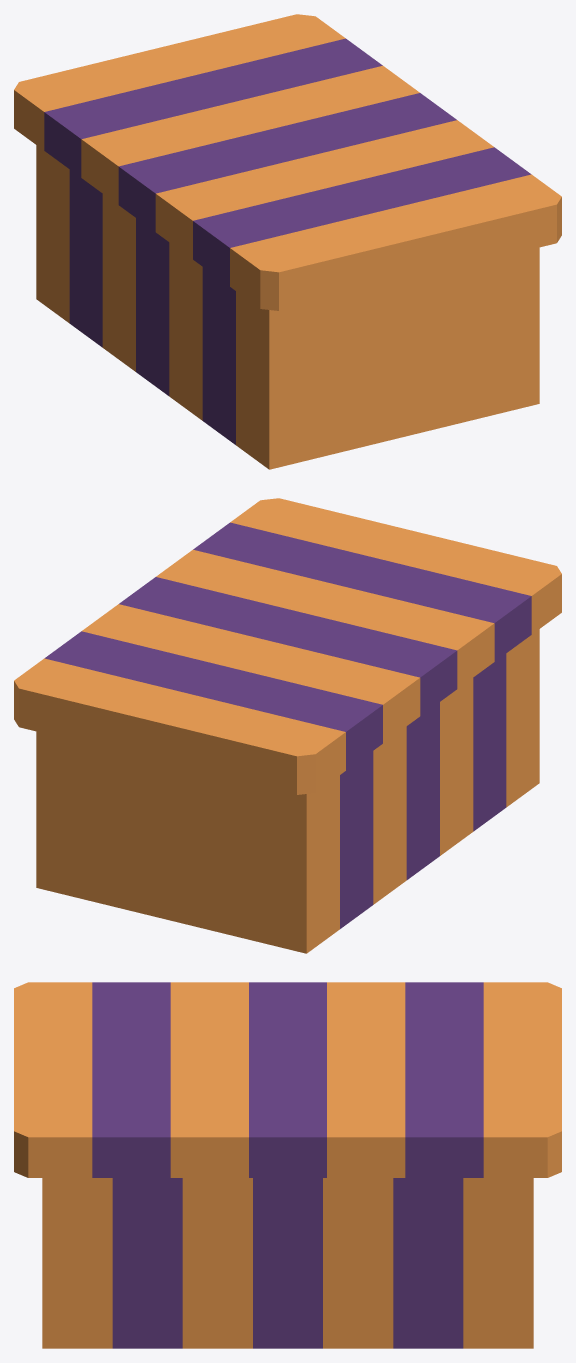
3 views of the same model, one above another, from view 1: azimuth 30°, elevation 25°; view 2: azimuth 150°, elevation 25°; view 3: azimuth 270°, elevation 25° (orthographic). The views are drawn at different scales.
Visible parts, largest first — view 1: Box_2; view 2: Box_2; view 3: Box_2.
Boxes of the visible parts, box(x1,y1,x2,y2) form: Box_2: box(14, 14, 561, 469); Box_2: box(14, 498, 561, 953); Box_2: box(14, 982, 561, 1348).
Bounding box in the file's own units: 0.2365 × 0.156 × 0.3532.
